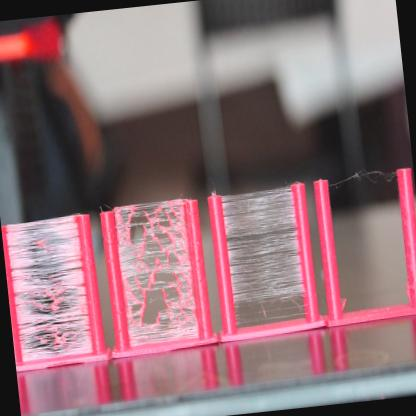fail: (8, 216, 94, 360), (113, 200, 199, 340), (222, 186, 308, 324), (331, 154, 399, 197)
